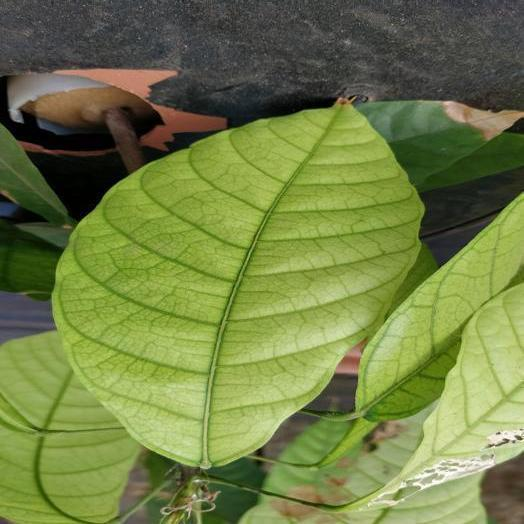Healthy Leaf: (357, 102, 491, 191), (423, 134, 523, 246), (0, 124, 75, 224), (0, 221, 61, 299)
Iron: (52, 103, 423, 467), (356, 194, 523, 419), (364, 282, 523, 505), (0, 331, 139, 523)
